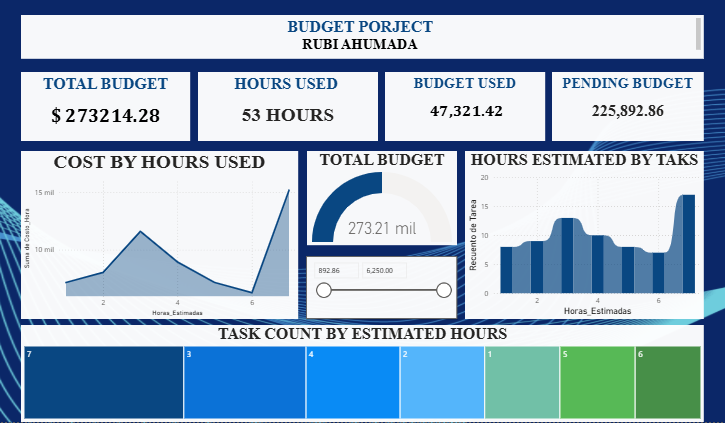

Layout of this report page (visuals, bound fields, positions):
{"tool":"powerbi","page":{"name":"Budget Project","canvas":[1280,720],"ordinal":1},"visuals":[{"type":"textbox","box":[960,136.7,253.3,115],"z":0},{"type":"textbox","box":[681.7,136.7,266.7,115],"z":1000},{"type":"textbox","box":[370,136.7,300,115],"z":2000},{"type":"textbox","box":[75,136.7,281.7,115],"z":3000},{"type":"gauge","title":"TOTAL BUDGET","fields":{"Y":["Sum(Hoja 1.Presupuesto_Tarea)"]},"box":[551.7,268.3,250,156.7],"z":4000},{"type":"textbox","box":[75,41.7,1138.3,73.3],"z":5000},{"type":"stackedAreaChart","title":"COST BY HOURS USED","fields":{"Category":["Hoja 1.Horas_Estimadas"],"Y":["Sum(Hoja 1.Costo_Hora)"]},"box":[75,268.3,461.7,280],"z":6000},{"type":"ribbonChart","title":"HOURS ESTIMATED BY TAKS","fields":{"Y":["CountNonNull(Hoja 1.Tarea)"],"Category":["Hoja 1.Horas_Estimadas"]},"box":[815,268.3,398.3,280],"z":7000},{"type":"treemap","title":"TASK COUNT BY ESTIMATED HOURS","fields":{"Group":["Hoja 1.Horas_Estimadas"],"Values":["CountNonNull(Hoja 1.Tarea)"]},"box":[75,558.3,1138.3,161.7],"z":8000},{"type":"slicer","title":"BUDGET PROJECT","fields":{"Values":["Hoja 1.Presupuesto_Tarea"]},"box":[550,443.3,251.7,105],"z":9000}]}

Visuals, with their boxes on the page's 1280x720 design canvas (x1, y1, x2, y2). These are canvas units, not pixel positions in the 725x423 screenshot, which may show the page scaled, cropped or inside an application window:
textbox: [960,137,1213,252]
textbox: [682,137,948,252]
textbox: [370,137,670,252]
textbox: [75,137,357,252]
"TOTAL BUDGET" gauge: [552,268,802,425]
textbox: [75,42,1213,115]
"COST BY HOURS USED" stackedAreaChart: [75,268,537,548]
"HOURS ESTIMATED BY TAKS" ribbonChart: [815,268,1213,548]
"TASK COUNT BY ESTIMATED HOURS" treemap: [75,558,1213,720]
"BUDGET PROJECT" slicer: [550,443,802,548]
